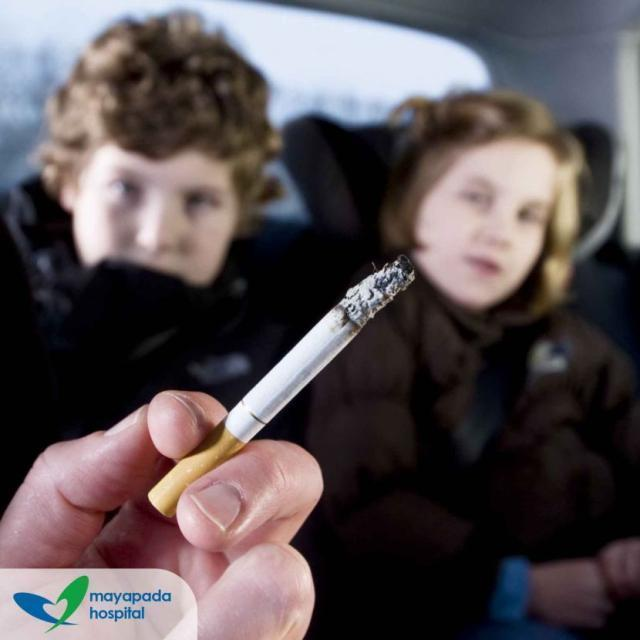rokok: (142, 260, 428, 518)
